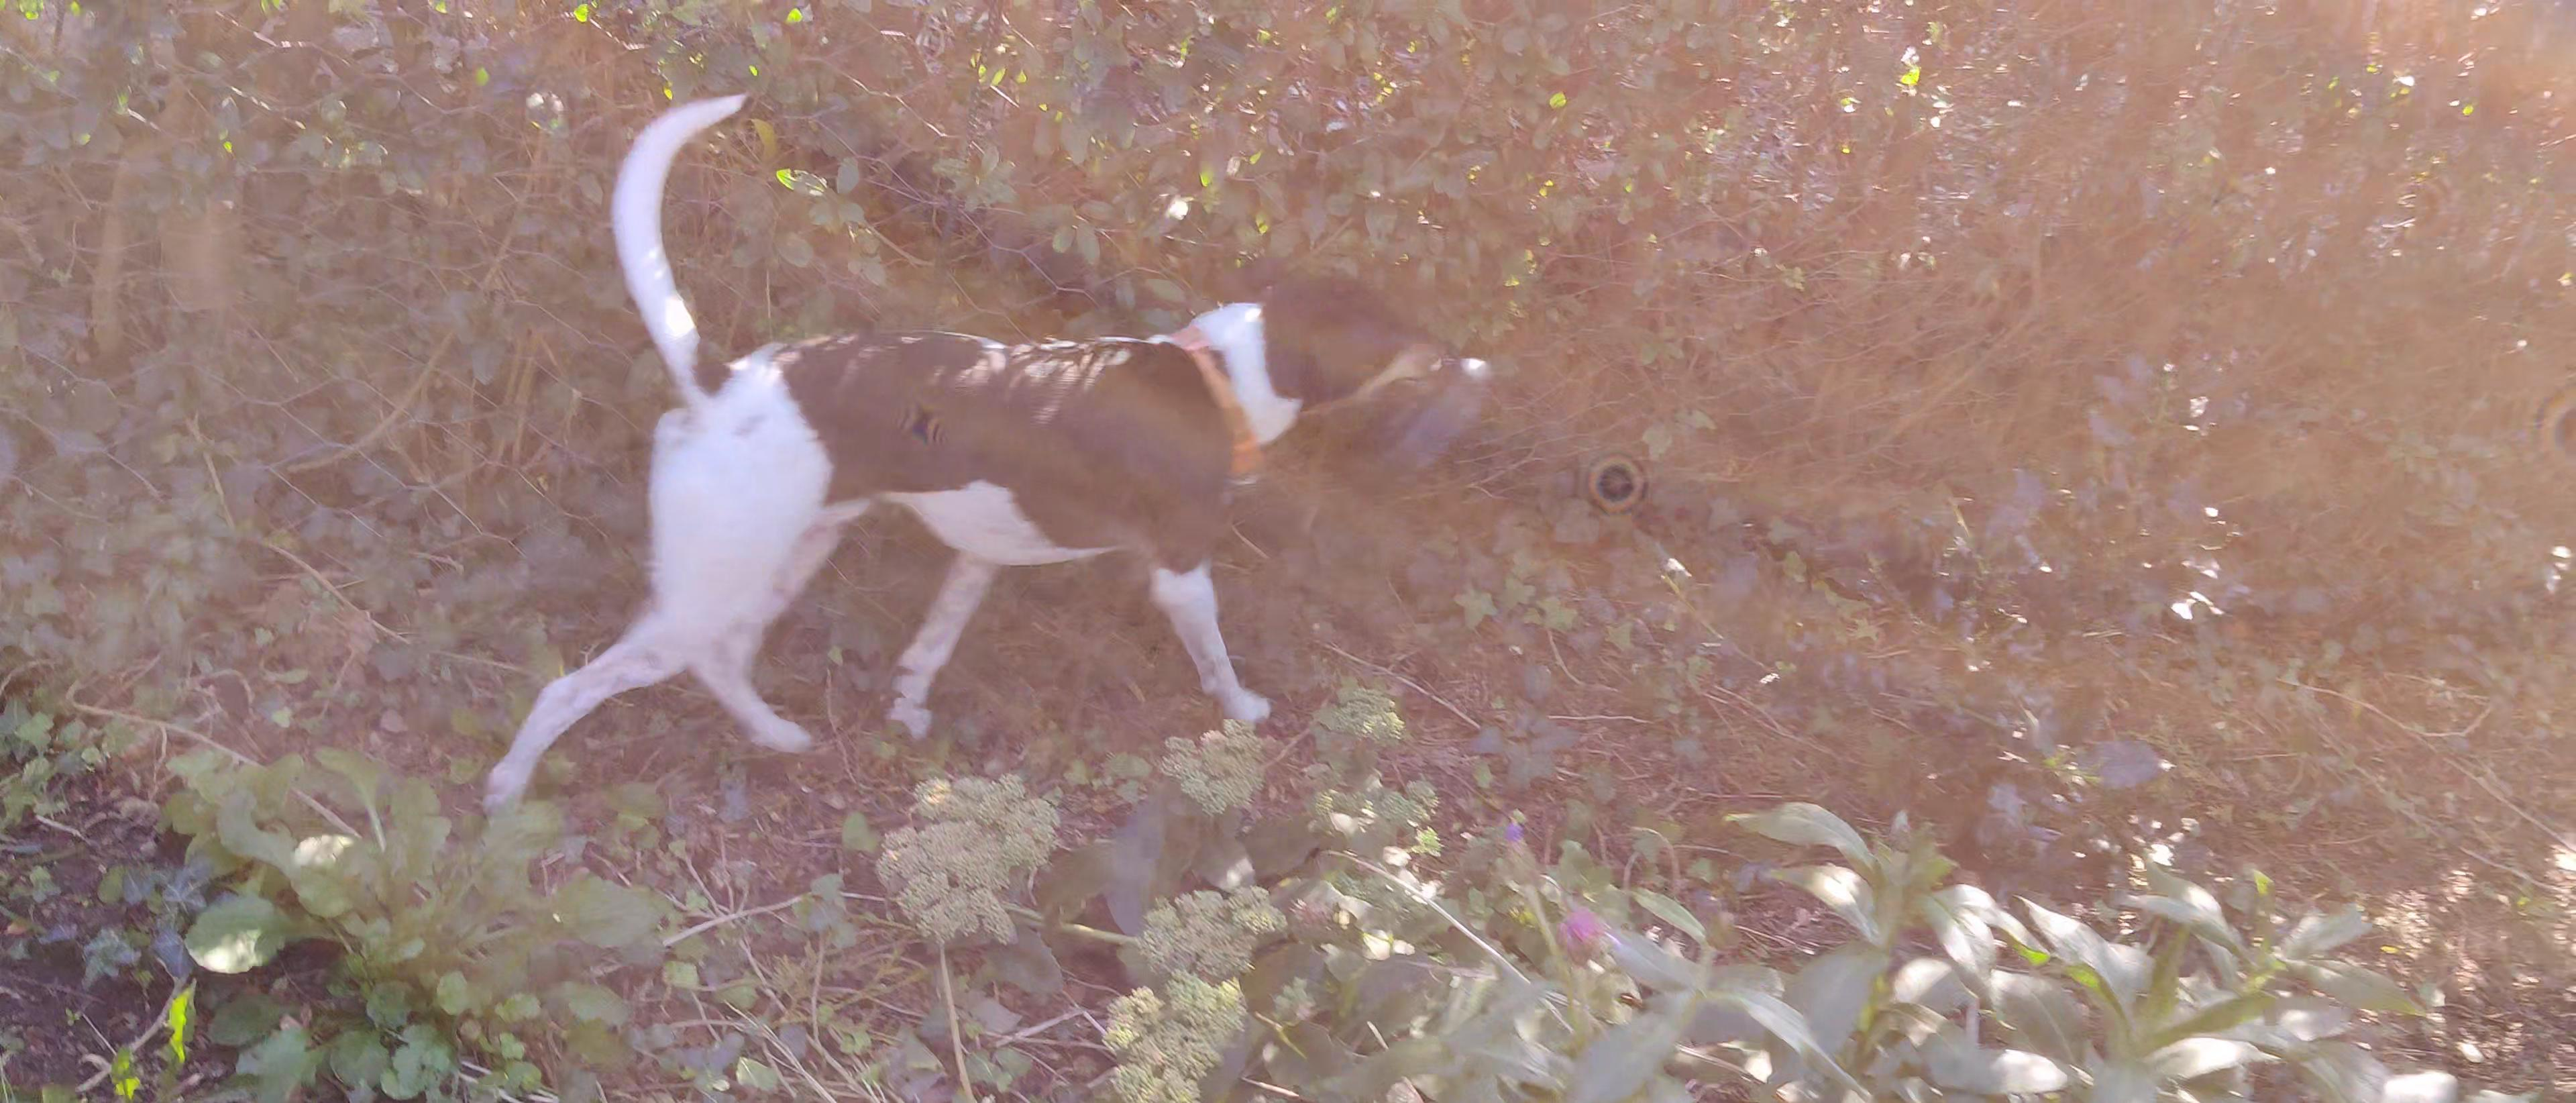Dog: (473, 85, 1449, 822)
